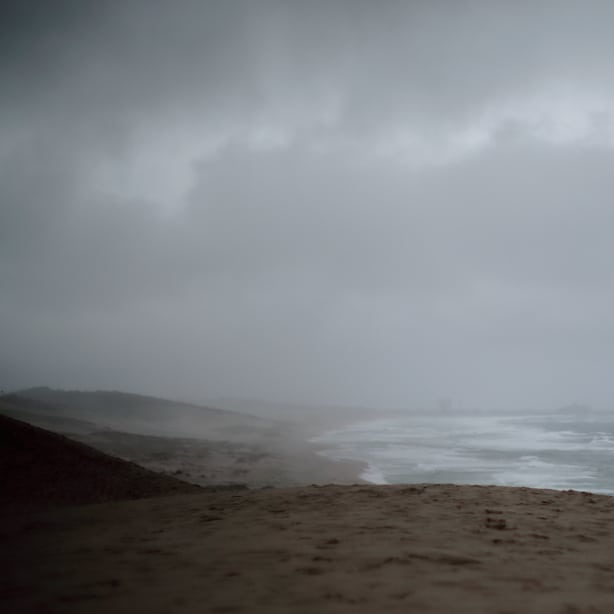sea: (333, 405, 614, 495)
sky: (1, 1, 602, 381)
